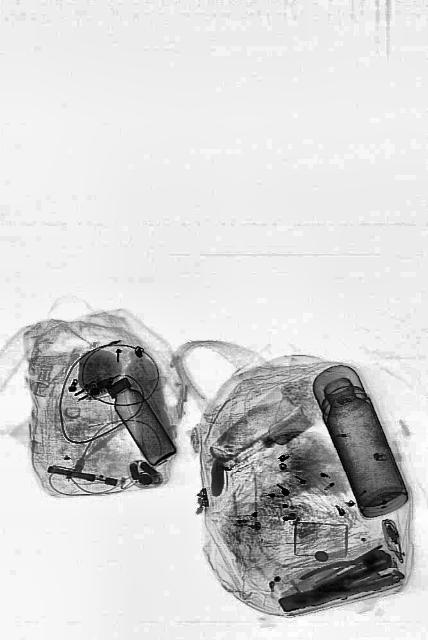Pliers: (294, 553, 394, 619), (300, 540, 386, 594)
